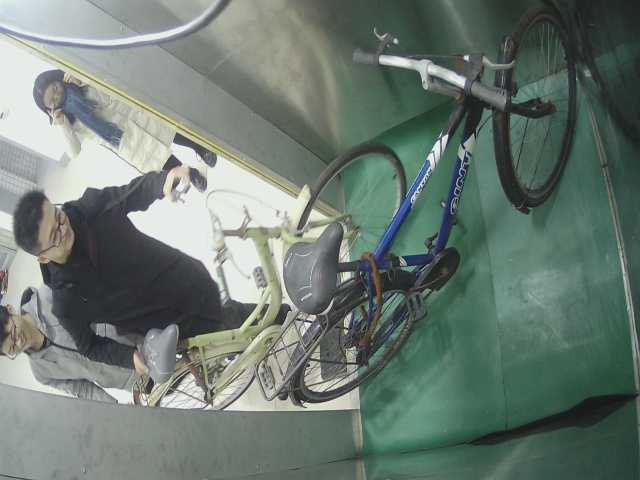bicycle: (249, 5, 585, 413), (120, 137, 409, 408)
person: (11, 180, 240, 328), (22, 63, 230, 188), (6, 285, 162, 399)
